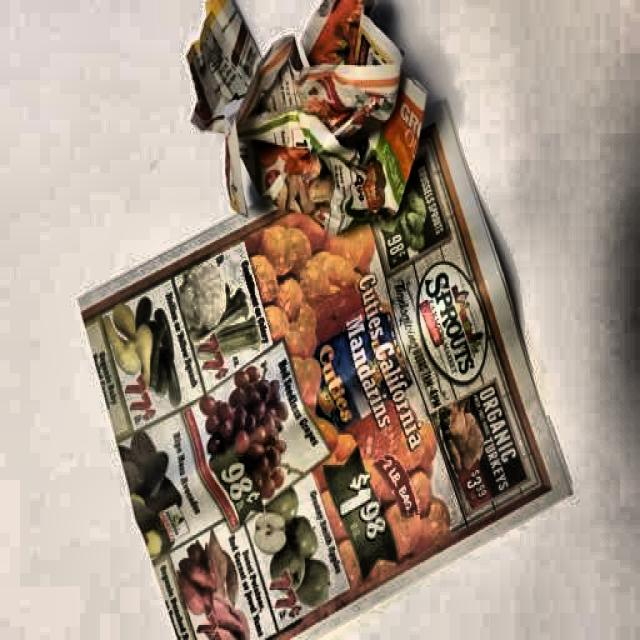paper: (80, 8, 549, 587)
